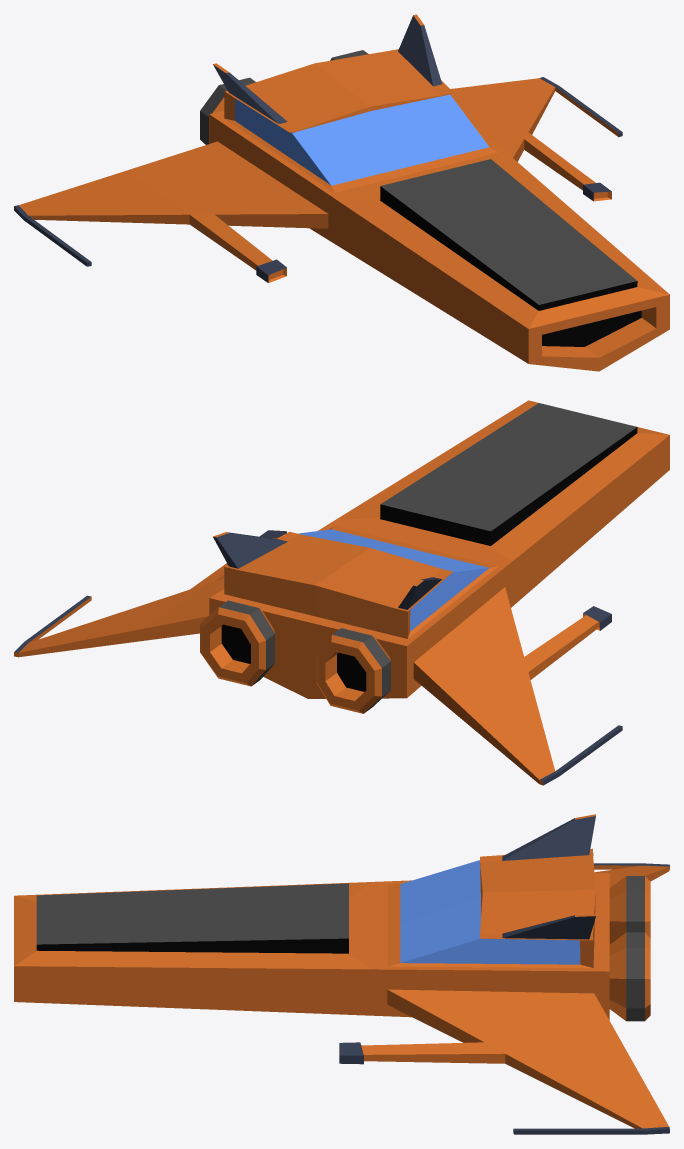
The model's file is NebulaDrifter425.fbx.
3 views of the same model, one above another, from view 1: azimuth 30°, elevation 25°; view 2: azimuth 150°, elevation 25°; view 3: azimuth 270°, elevation 25° (orthographic). The views are drawn at different scales.
Visible parts, largest first — view 1: NebulaDrifter425; view 2: NebulaDrifter425; view 3: NebulaDrifter425.
Part boxes in pixels (x1,y1,x2,y2): NebulaDrifter425: (14, 14, 669, 371); NebulaDrifter425: (14, 400, 669, 785); NebulaDrifter425: (14, 814, 669, 1134).
Bounding box in the file's own units: 14.28 × 3.39 × 14.8.
